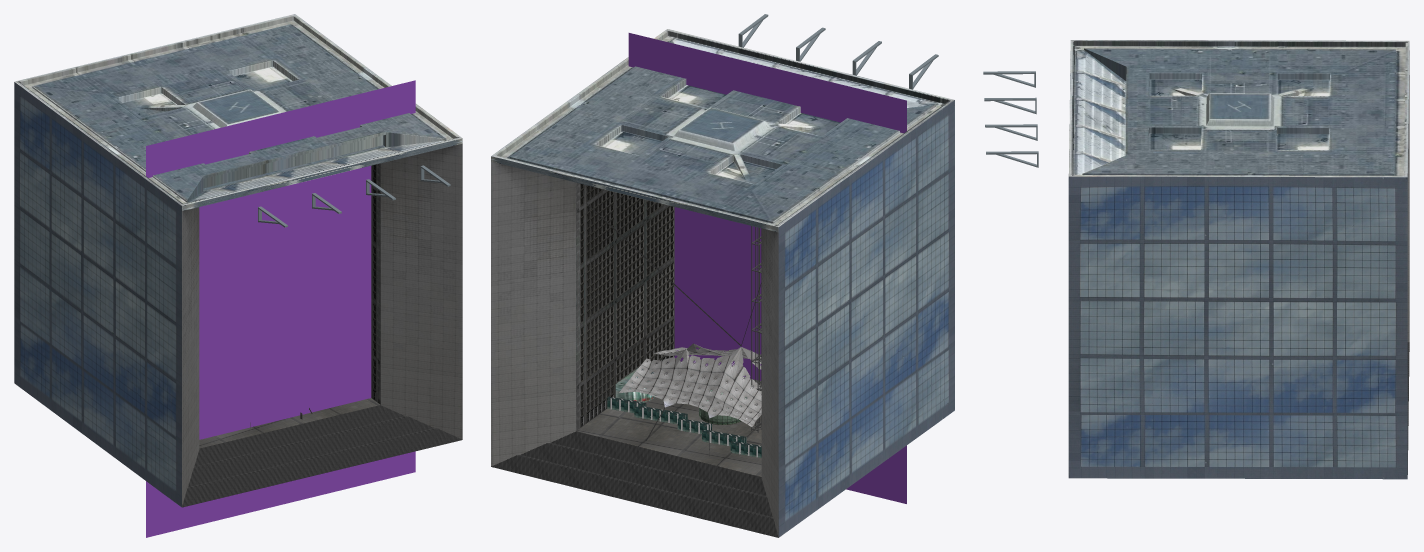
Rendered from grande_arche.fbx.
3 views of the same model, side by side, from view 1: azimuth 30°, elevation 25°; view 2: azimuth 150°, elevation 25°; view 3: azimuth 270°, elevation 25° (orthographic). The views are drawn at different scales.
Parts seen in each view (by area): view 1: _G-Object (Loose Mesh), Plane, G-Object.001; view 2: _G-Object (Loose Mesh), Plane, G-Object.002, _G-Object.031 (Loose Mesh), G-Object.034, _G-Object.027 (Loose Mesh); view 3: _G-Object (Loose Mesh).
Boxes of the visible parts, box(x1,y1,x2,y2) form: _G-Object (Loose Mesh): box(14, 14, 462, 507); Plane: box(146, 80, 415, 537); G-Object.001: box(182, 405, 462, 507); _G-Object (Loose Mesh): box(491, 29, 954, 537); Plane: box(628, 33, 906, 503); G-Object.002: box(491, 431, 778, 537); _G-Object.031 (Loose Mesh): box(618, 347, 761, 427); G-Object.034: box(607, 396, 761, 457); _G-Object.027 (Loose Mesh): box(654, 343, 761, 369); _G-Object (Loose Mesh): box(1068, 40, 1409, 479).
Bounding box in the file's own units: 10754 × 14296 × 14083.
24 materials, 19 textured.
